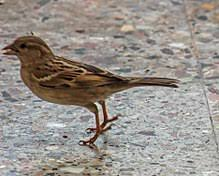hsparrow: (1, 34, 183, 150)
